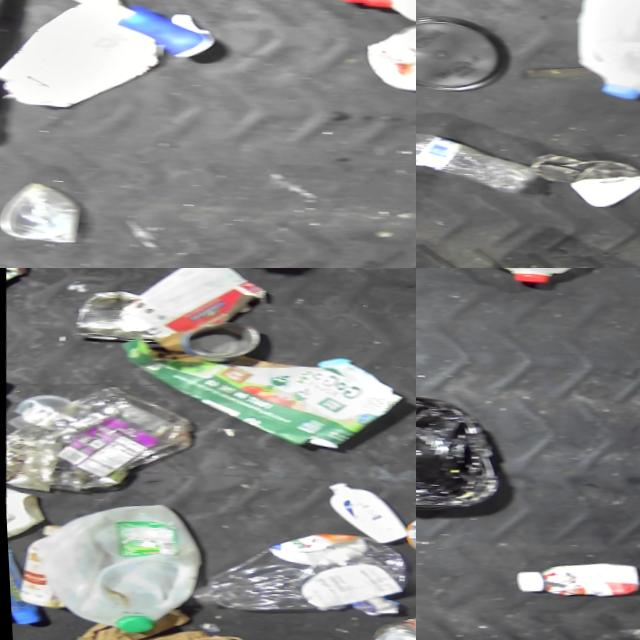can: (65, 287, 150, 344), (178, 319, 263, 363), (397, 503, 416, 568)
milk_jug: (30, 498, 206, 638), (563, 0, 640, 105)
plastic_bottle: (179, 525, 406, 621), (416, 124, 536, 196)
